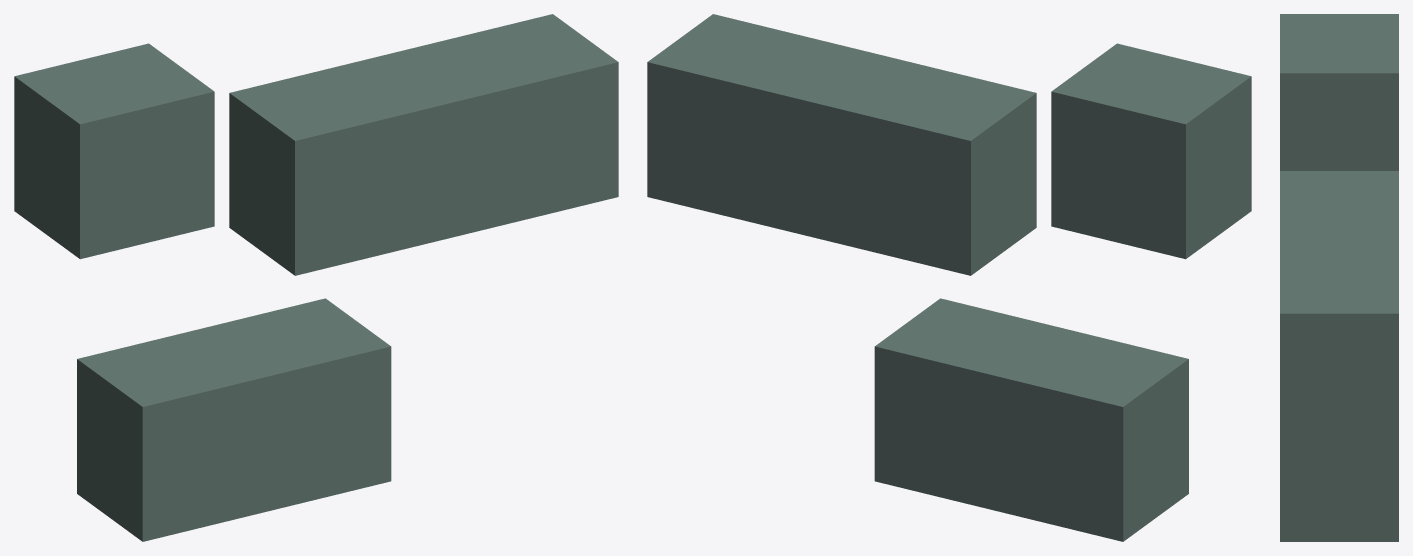
File: BrickDetails2.fbx
The picture shows the model from 3 angles, left to right: view 1: azimuth 30°, elevation 25°; view 2: azimuth 150°, elevation 25°; view 3: azimuth 270°, elevation 25°; orthographic projection. The views are drawn at different scales.
Visible parts, largest first — view 1: BrickDetails2; view 2: BrickDetails2; view 3: BrickDetails2.
Boxes of the visible parts, x1,y1,x2,y2 form: BrickDetails2: [14, 14, 618, 541]; BrickDetails2: [647, 14, 1251, 541]; BrickDetails2: [1280, 14, 1398, 541].
Bounding box in the file's own units: 0.5535 × 0.4252 × 0.117.
